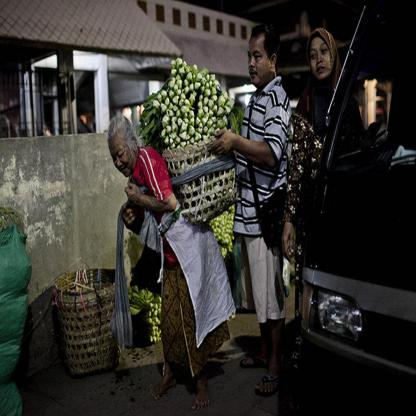face: (111, 131, 135, 179), (250, 37, 273, 86), (312, 33, 334, 82)
